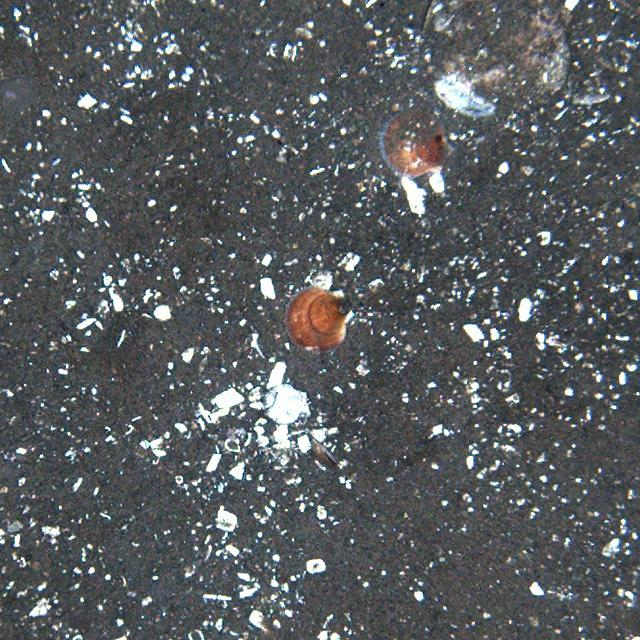scallop: (382, 108, 458, 178), (285, 283, 356, 352)
